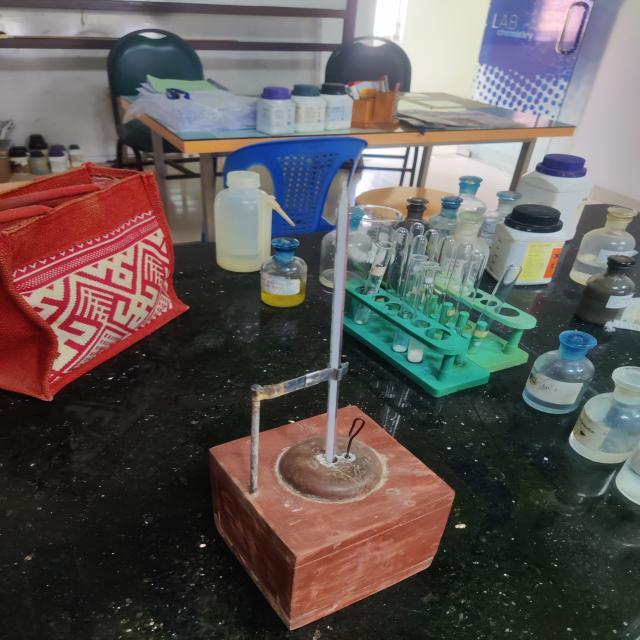Calorimeter: (142, 150, 522, 640)
